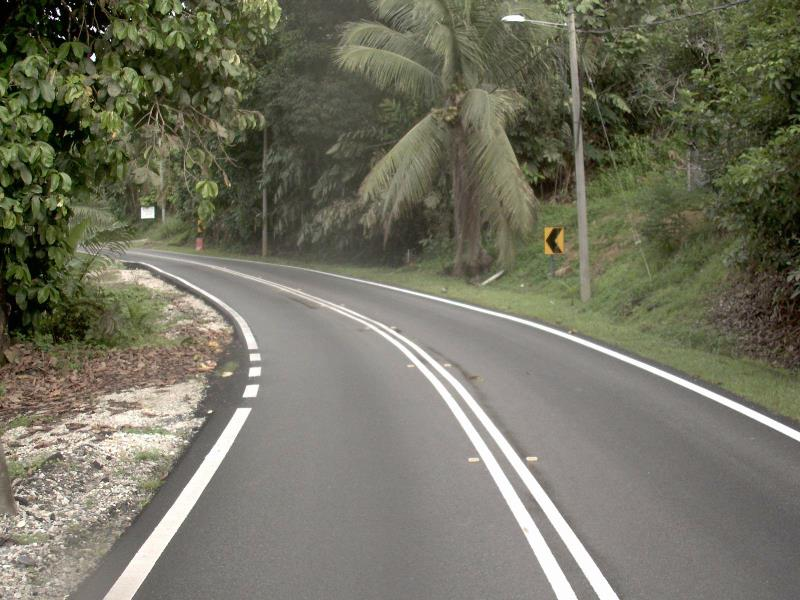traffic_sign: (536, 217, 571, 264)
